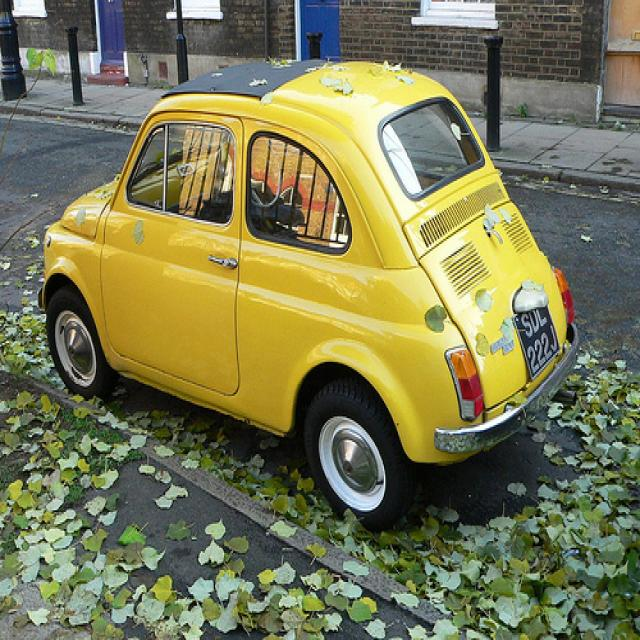Car: (37, 53, 580, 522)
